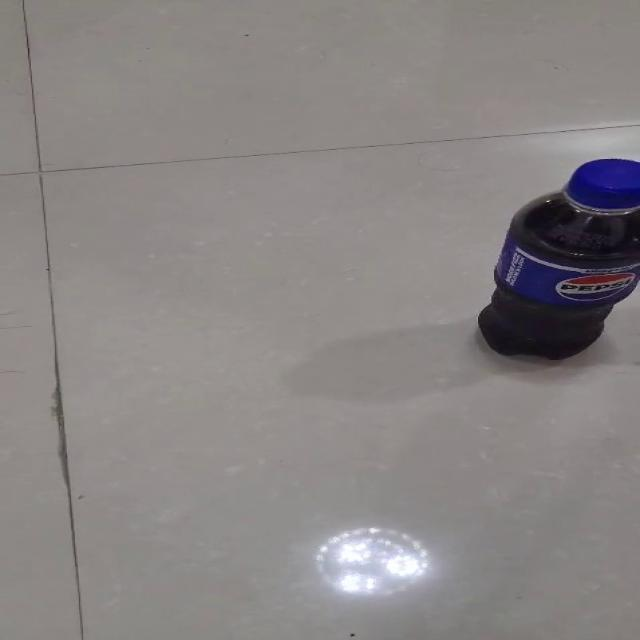plastic: (475, 157, 639, 360)
